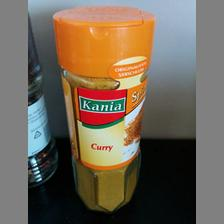Gewuerze: (51, 4, 155, 212)
